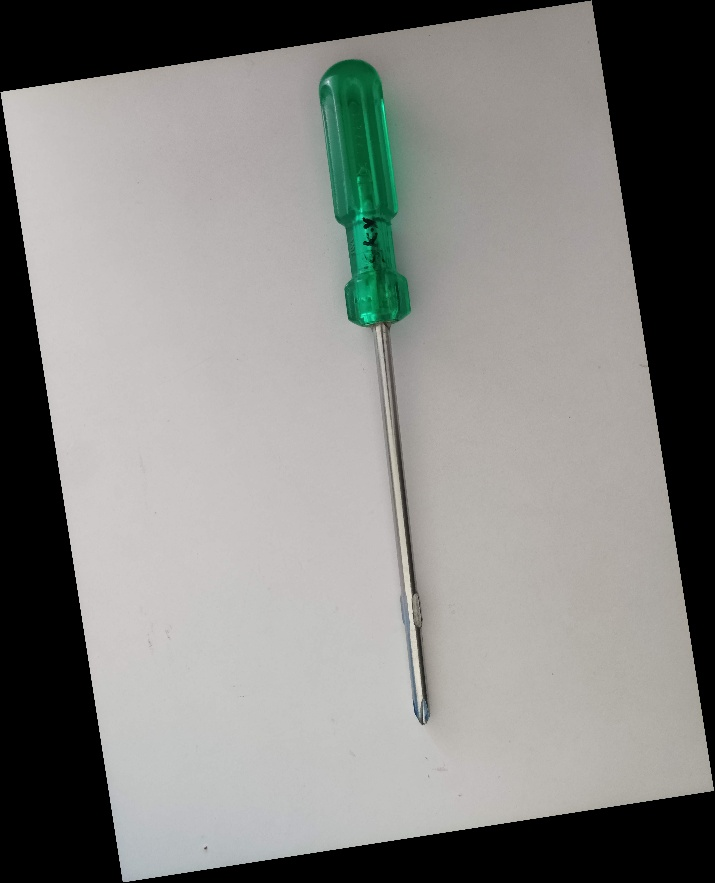screwdriver: (315, 55, 434, 728)
